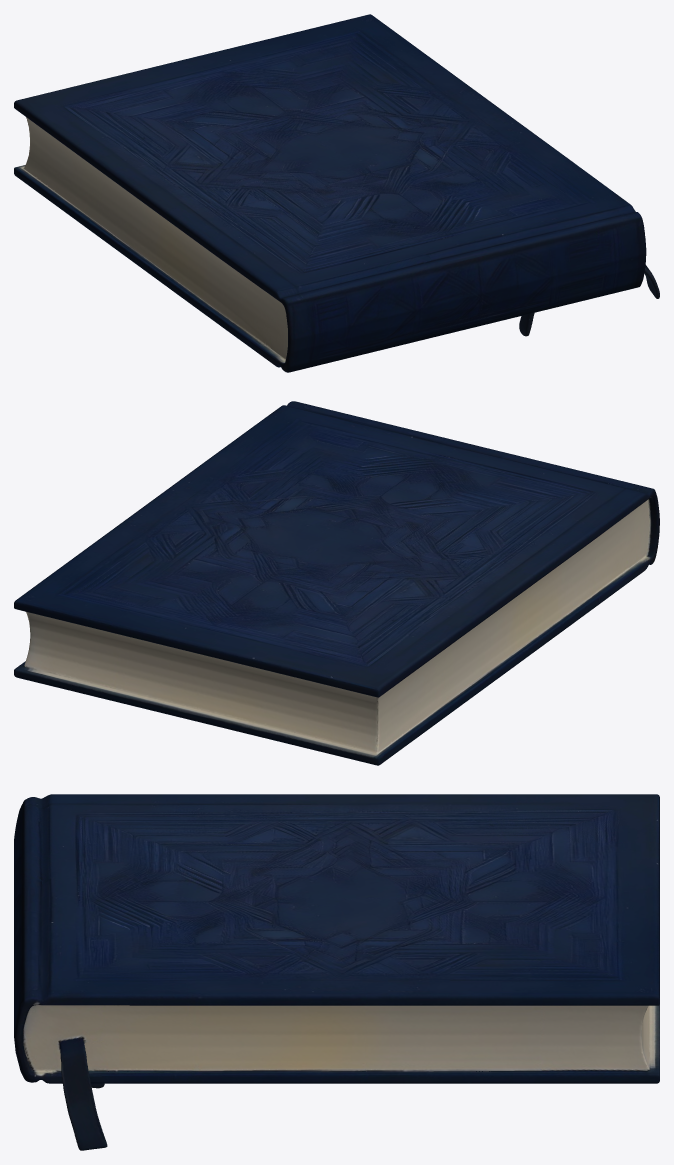
File: libro_1.glb
3 views of the same model, one above another, from view 1: azimuth 30°, elevation 25°; view 2: azimuth 150°, elevation 25°; view 3: azimuth 270°, elevation 25° (orthographic). The views are drawn at different scales.
Visible parts, largest first — view 1: tripo_node_b14c57d5-60e0-4b46-832d-48ab02856b8c; view 2: tripo_node_b14c57d5-60e0-4b46-832d-48ab02856b8c; view 3: tripo_node_b14c57d5-60e0-4b46-832d-48ab02856b8c.
Part boxes in pixels (<box>): tripo_node_b14c57d5-60e0-4b46-832d-48ab02856b8c: <box>14,14,659,372</box>; tripo_node_b14c57d5-60e0-4b46-832d-48ab02856b8c: <box>14,401,659,765</box>; tripo_node_b14c57d5-60e0-4b46-832d-48ab02856b8c: <box>14,794,659,1150</box>.
Bounding box in the file's own units: 0.8323 × 0.2453 × 1.
Materials: 1 (1 with a texture image).
